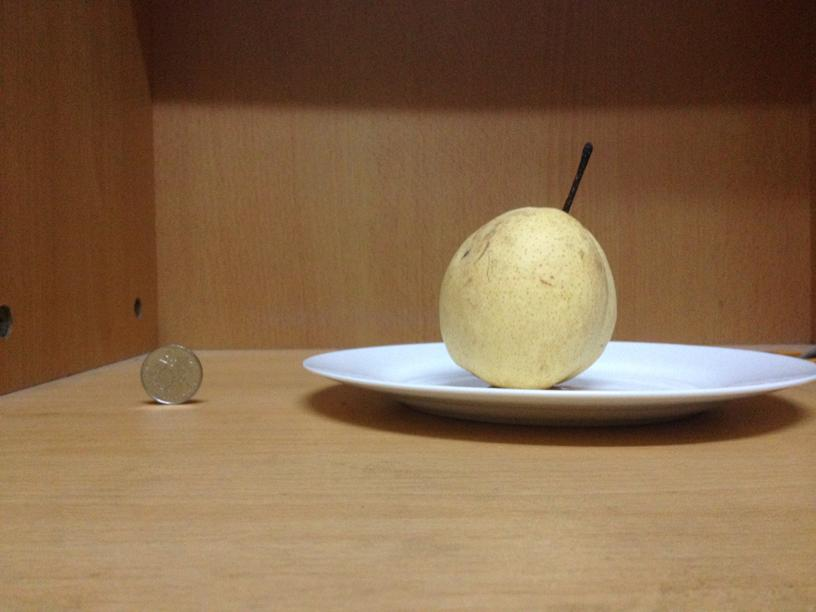coin: (142, 345, 204, 404)
pear: (435, 205, 619, 388)
